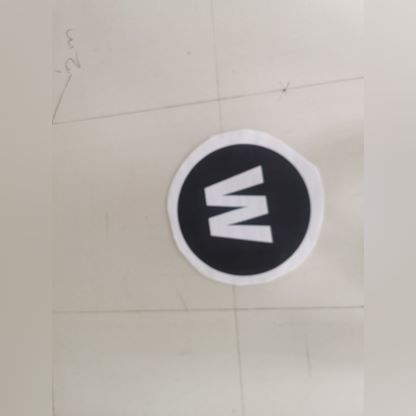W: (192, 158, 300, 273)
